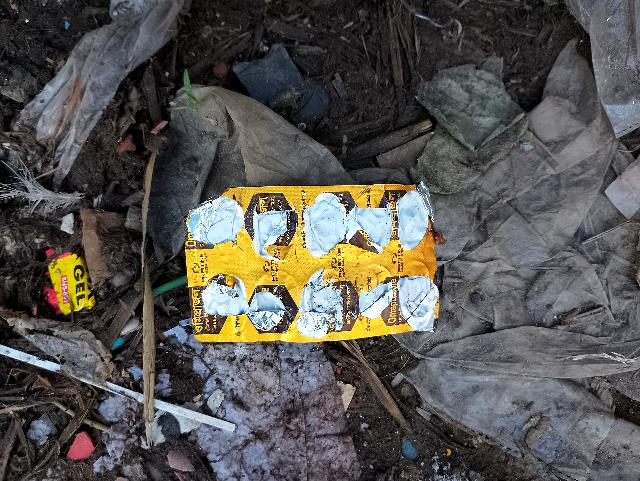medicine: (192, 182, 440, 335)
